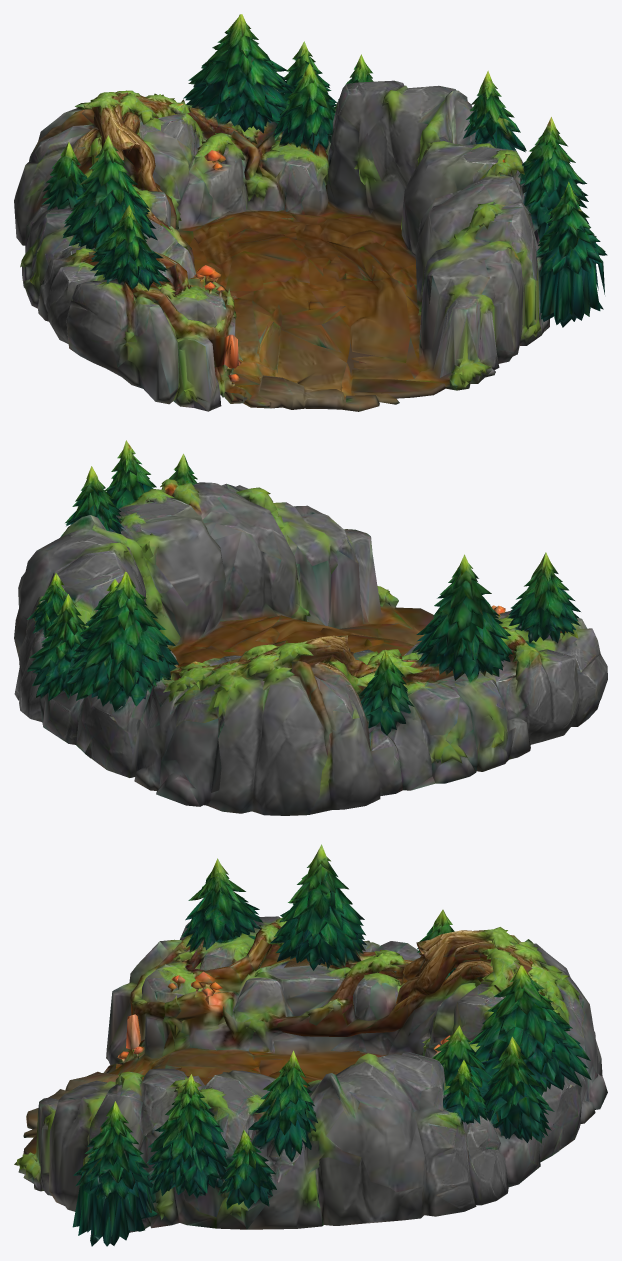
Rendered from jgcamp.glb.
3 renders of one model, top to bottom at view 1: azimuth 30°, elevation 25°; view 2: azimuth 150°, elevation 25°; view 3: azimuth 270°, elevation 25°, orthographic. The views are drawn at different scales.
Visible parts, largest first — view 1: JungleCamp; view 2: JungleCamp; view 3: JungleCamp.
Part boxes in pixels (x1=…): JungleCamp: x1=14, y1=14, x2=607, y2=411; JungleCamp: x1=14, y1=440, x2=607, y2=815; JungleCamp: x1=14, y1=844, x2=607, y2=1246.
Bounding box in the file's own units: 2 × 0.7689 × 1.92.
Materials: 1 (1 with a texture image).
